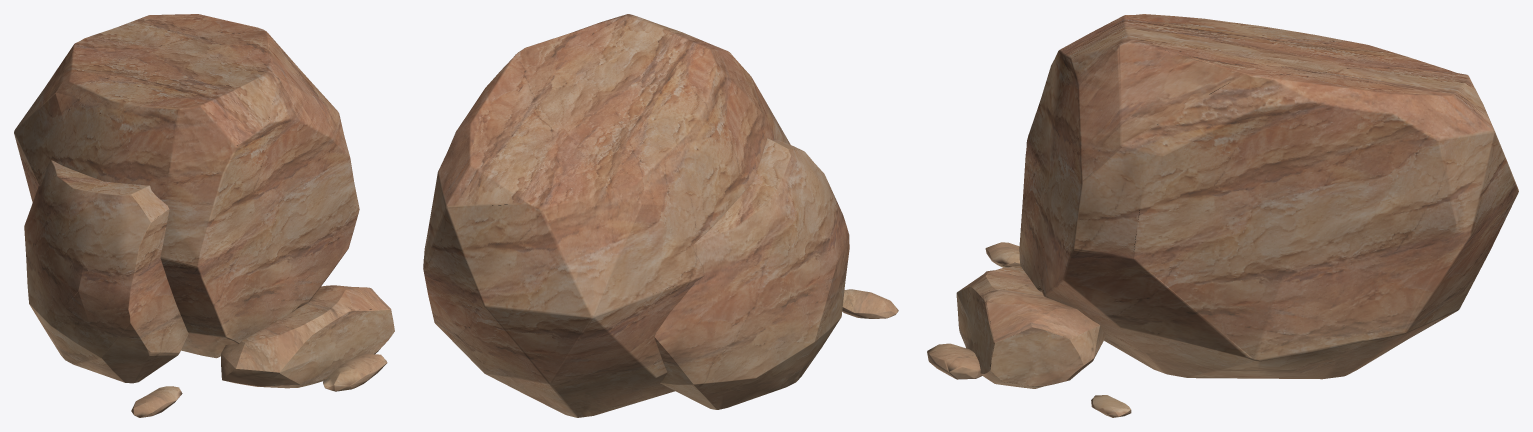
The model's file is flanker_left.glb.
3 views of the same model, side by side, from view 1: azimuth 30°, elevation 25°; view 2: azimuth 150°, elevation 25°; view 3: azimuth 270°, elevation 25° (orthographic). The views are drawn at different scales.
Visible parts, largest first — view 1: Fractured sanctuary flanker; view 2: Fractured sanctuary flanker; view 3: Fractured sanctuary flanker.
Part boxes in pixels (<box>): Fractured sanctuary flanker: <box>14,14,394,417</box>; Fractured sanctuary flanker: <box>423,14,898,417</box>; Fractured sanctuary flanker: <box>927,14,1518,417</box>.
Size of the model in its own units: 3.7 by 3.12 by 5.12.
Materials: 1 (1 with a texture image).
